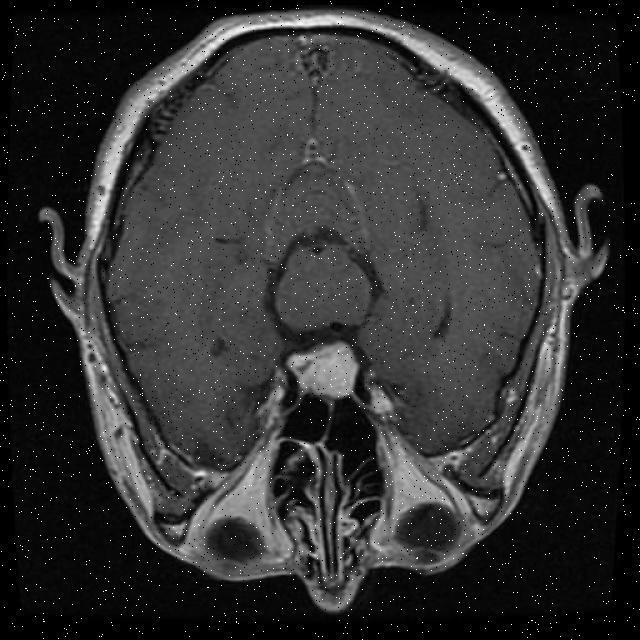Pituitary: (286, 342, 358, 401)
